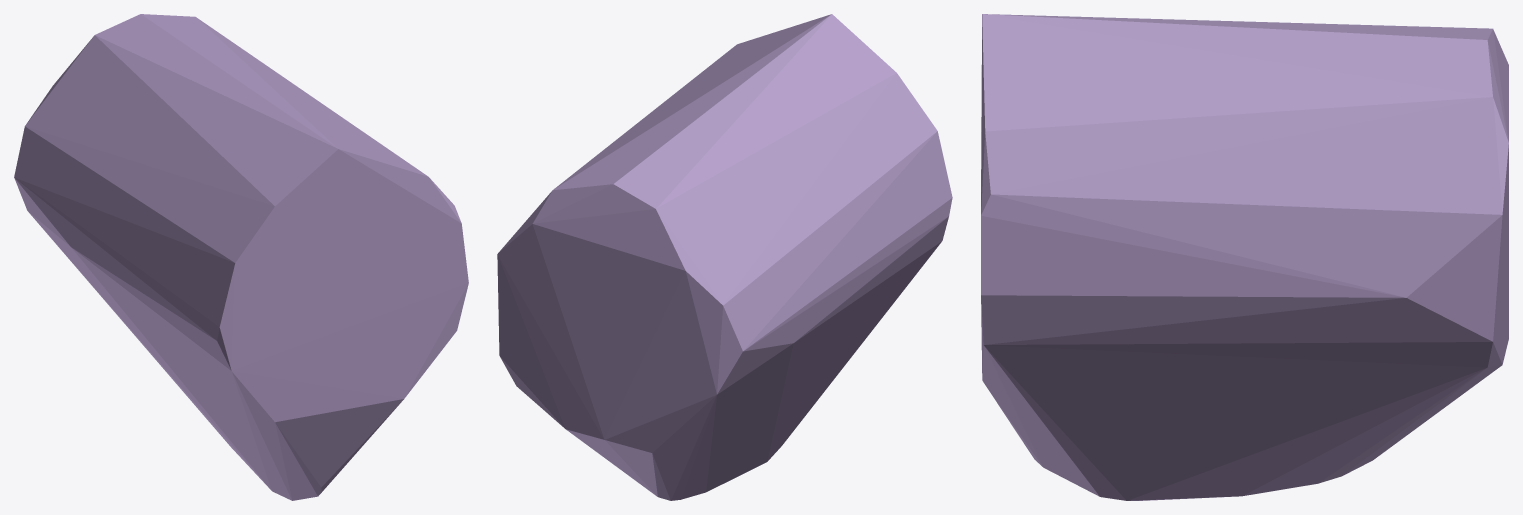
File: kitchenware_jug_g01.glb
The picture shows the model from 3 angles, left to right: view 1: azimuth 30°, elevation 25°; view 2: azimuth 150°, elevation 25°; view 3: azimuth 270°, elevation 25°; orthographic projection. The views are drawn at different scales.
Visible parts, largest first — view 1: geometry_0; view 2: geometry_0; view 3: geometry_0.
Part boxes in pixels (x1=…): geometry_0: x1=14, y1=14, x2=468, y2=500; geometry_0: x1=497, y1=14, x2=952, y2=500; geometry_0: x1=981, y1=14, x2=1508, y2=500.
Bounding box in the file's own units: 0.3205 × 0.4767 × 0.4729.
